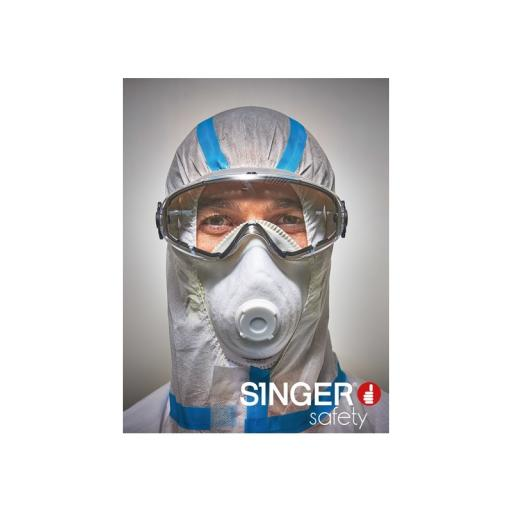mask: (154, 102, 351, 368)
